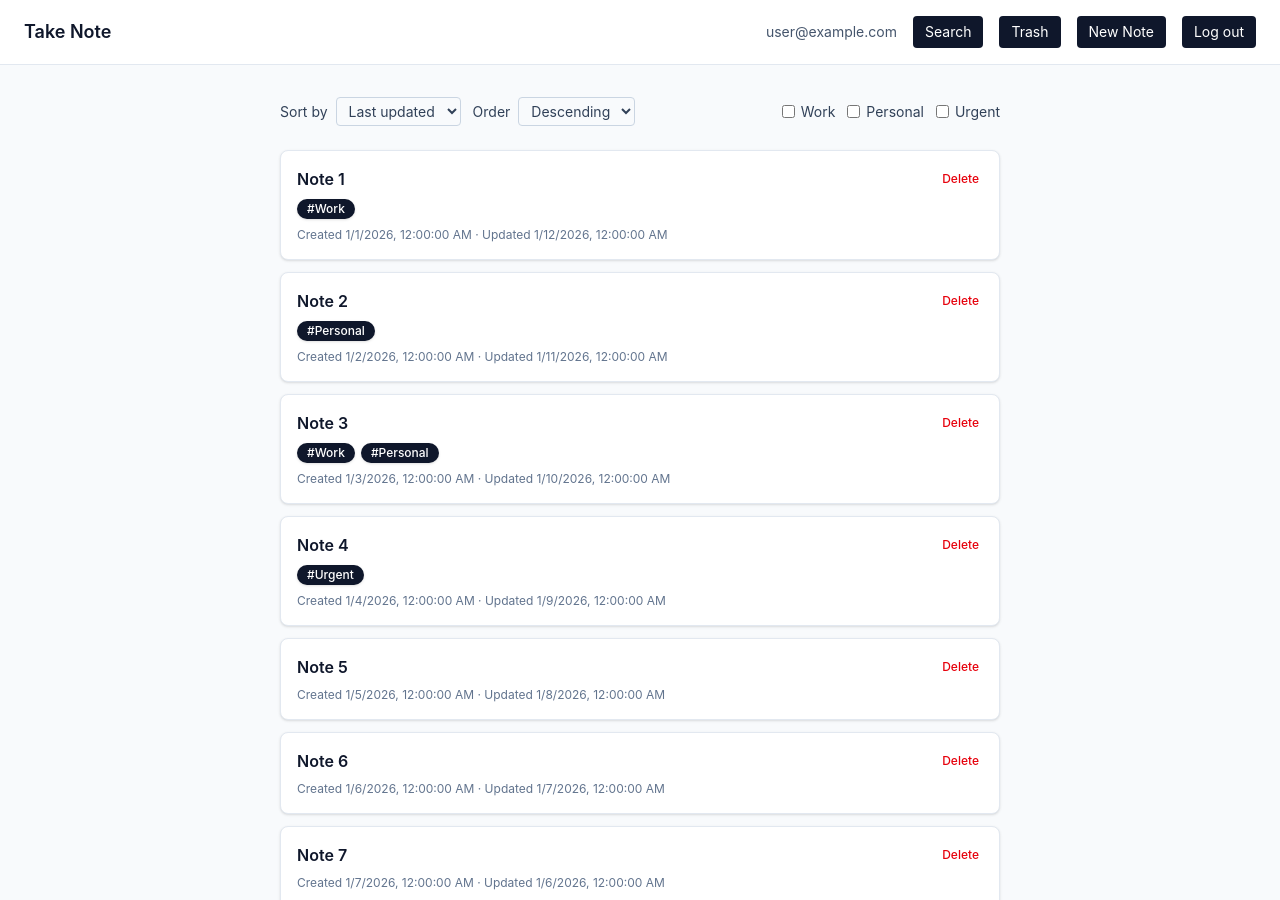
it: NotesListPage › No notes match the current tag filter
This screenshot has width=1280, height=900.
Expected: the heading "Note 1" is shown, [297,169,345,189]
Click the checkbox labelled "Personal". click: (854, 112)
box: [847,105,860,118]
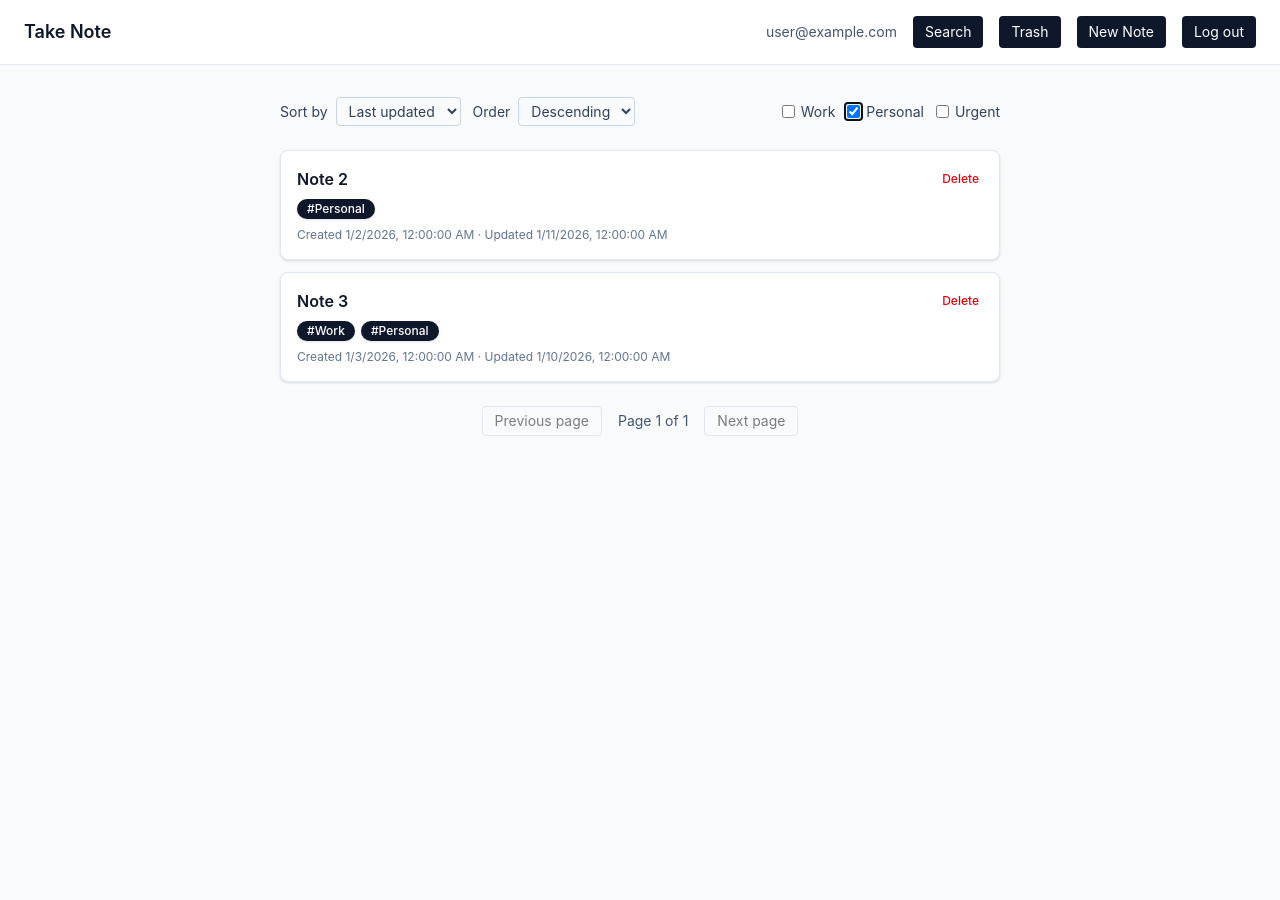
Click the checkbox labelled "Urgent". click: (942, 112)
box: [936,105,949,118]
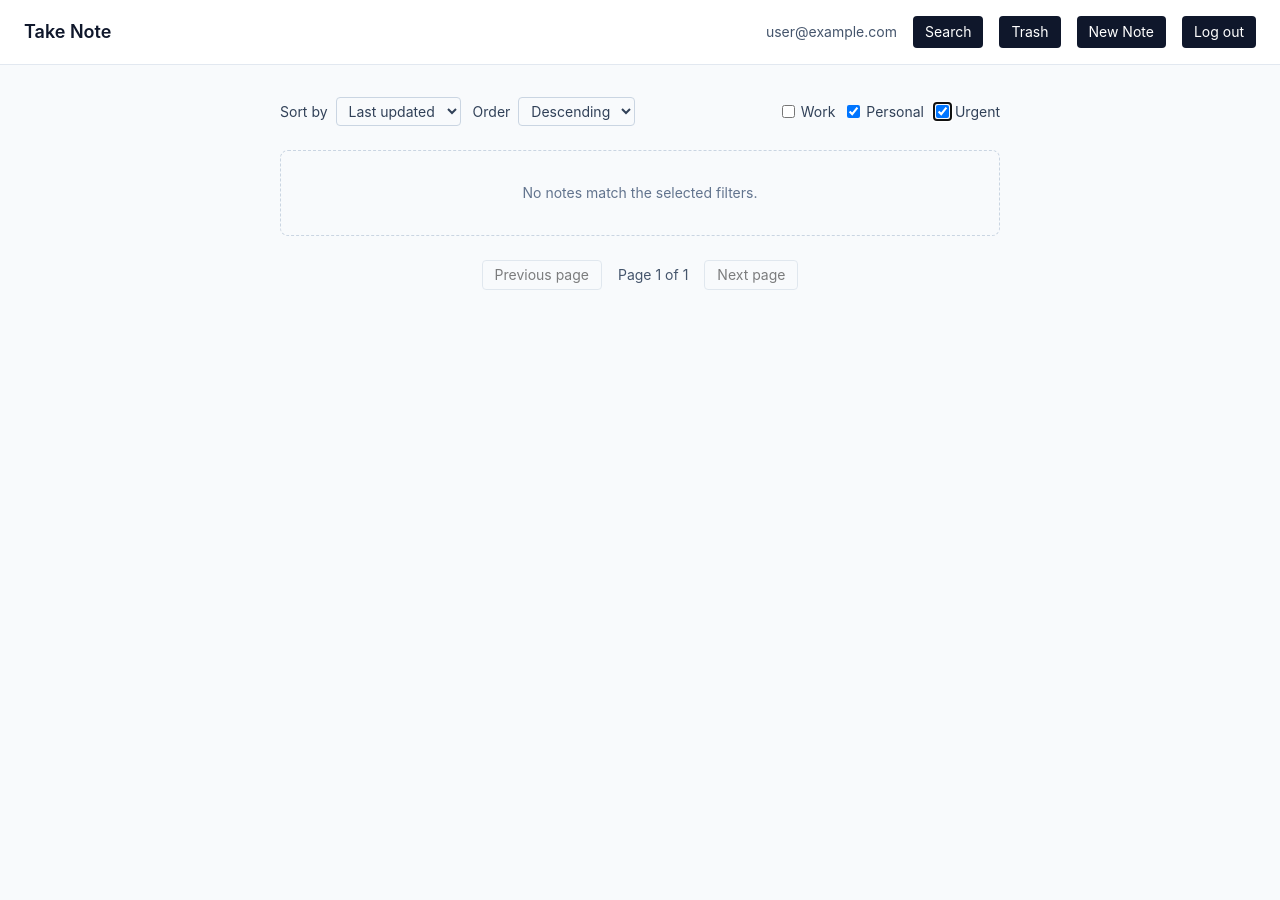
Result: the text "No notes match the selected filters." is shown at [280,150,1000,236]
